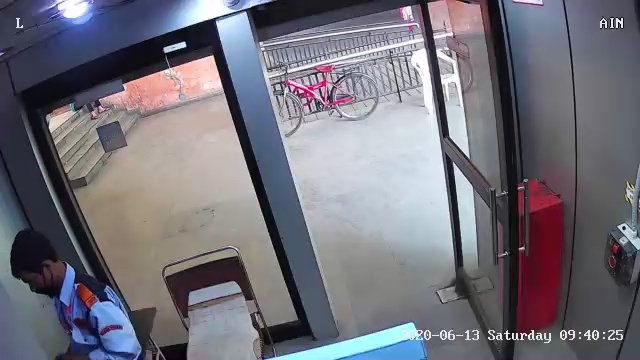open: (208, 3, 557, 349)
